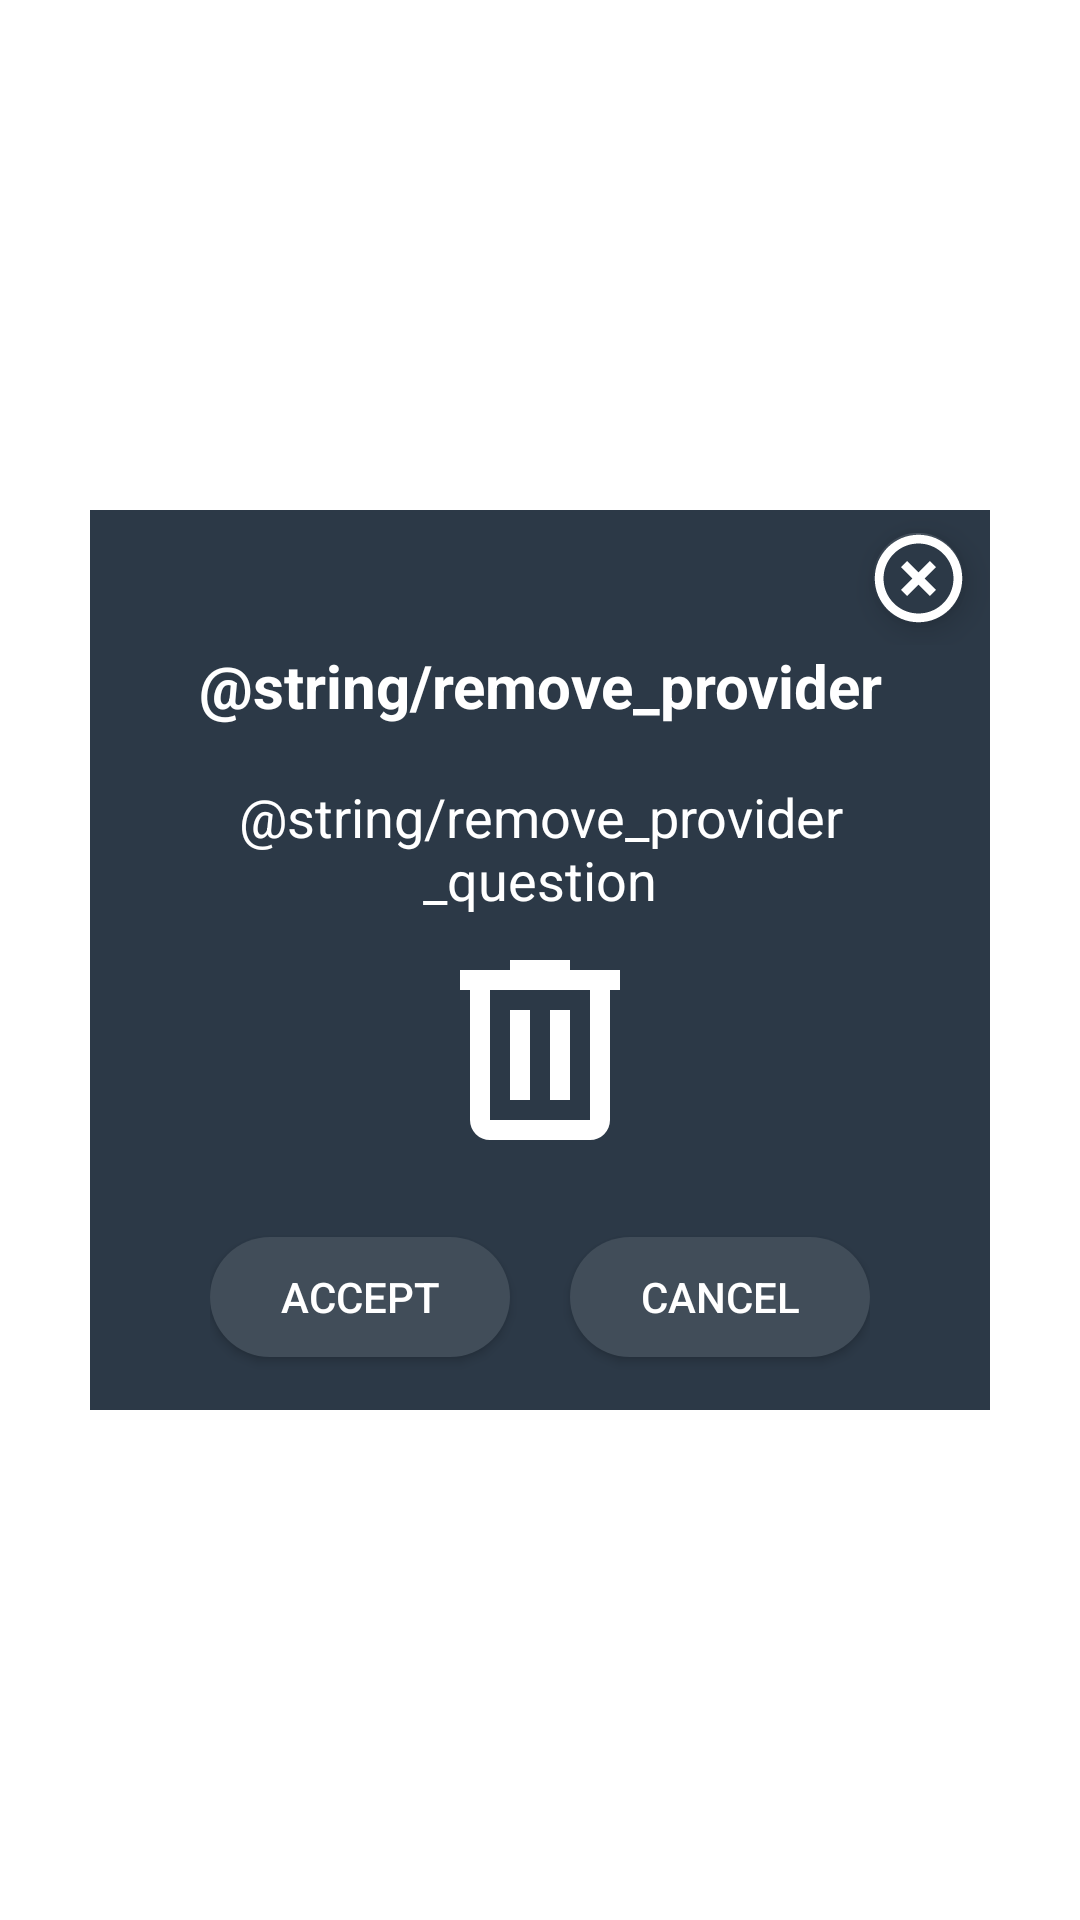

Point at icon controls on the screen. Image size 1080x1920, points as (x=x, y=y).
cancel: (x=918, y=578)
trash: (x=540, y=1050)
